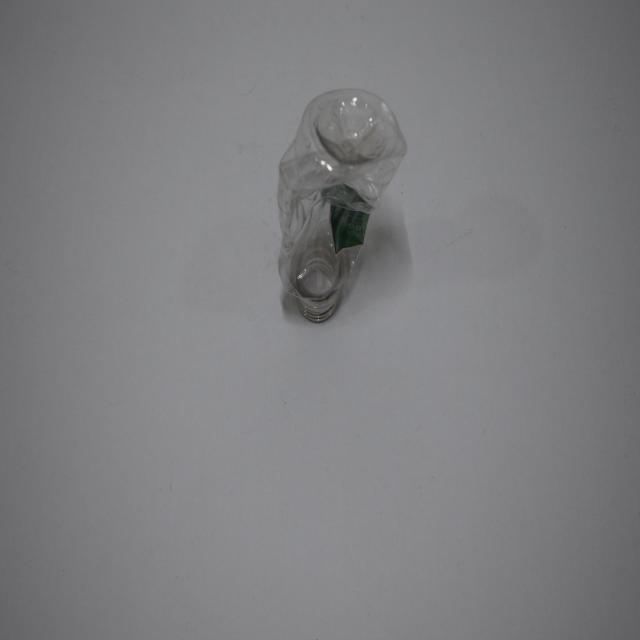bottle: (257, 65, 414, 342)
